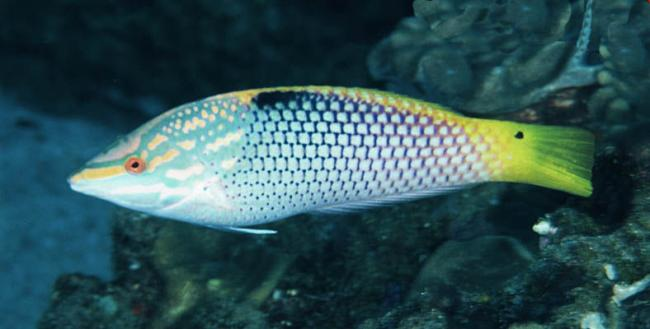fish: (66, 84, 597, 236)
